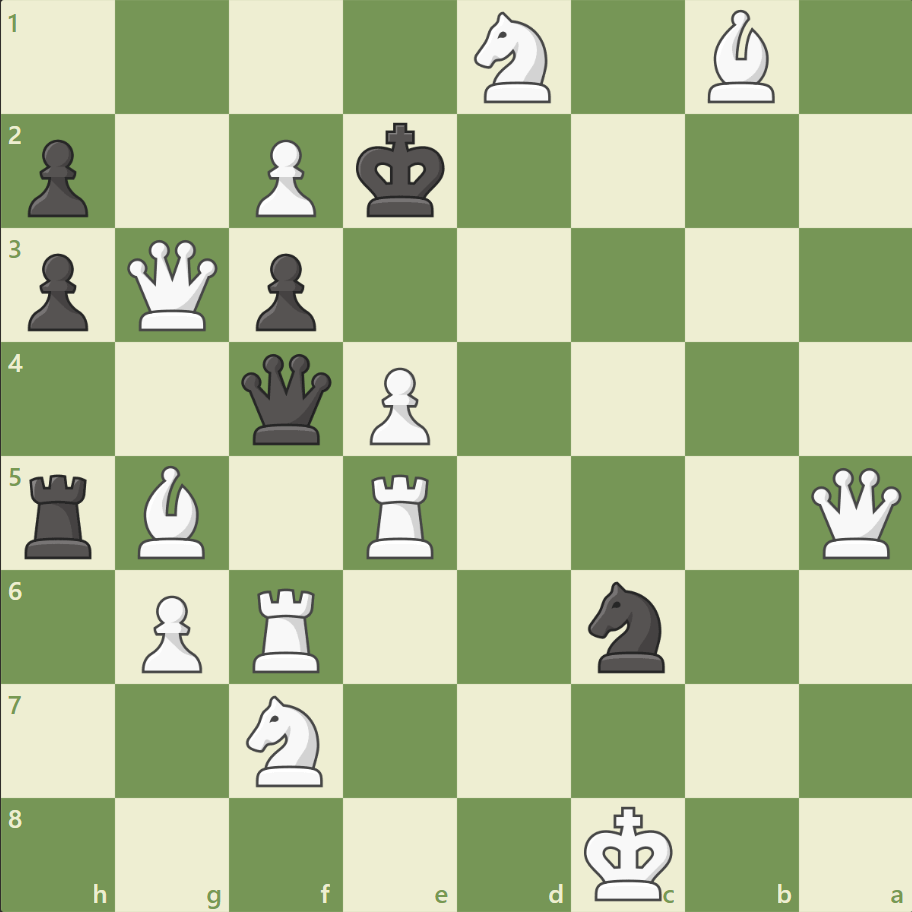B: (131, 460, 215, 563), (698, 6, 782, 109)
K: (579, 798, 679, 906)
N: (238, 688, 335, 791), (465, 7, 562, 110)
P: (133, 586, 208, 677), (247, 132, 322, 223), (361, 359, 435, 450)
Q: (805, 463, 904, 562), (124, 236, 223, 335)
R: (246, 579, 329, 676), (360, 466, 442, 563)
k: (351, 117, 451, 225)
n: (579, 575, 676, 677)
p: (247, 246, 322, 337), (20, 246, 95, 337), (20, 132, 95, 223)
q: (237, 349, 336, 449)
r: (19, 466, 102, 563)
